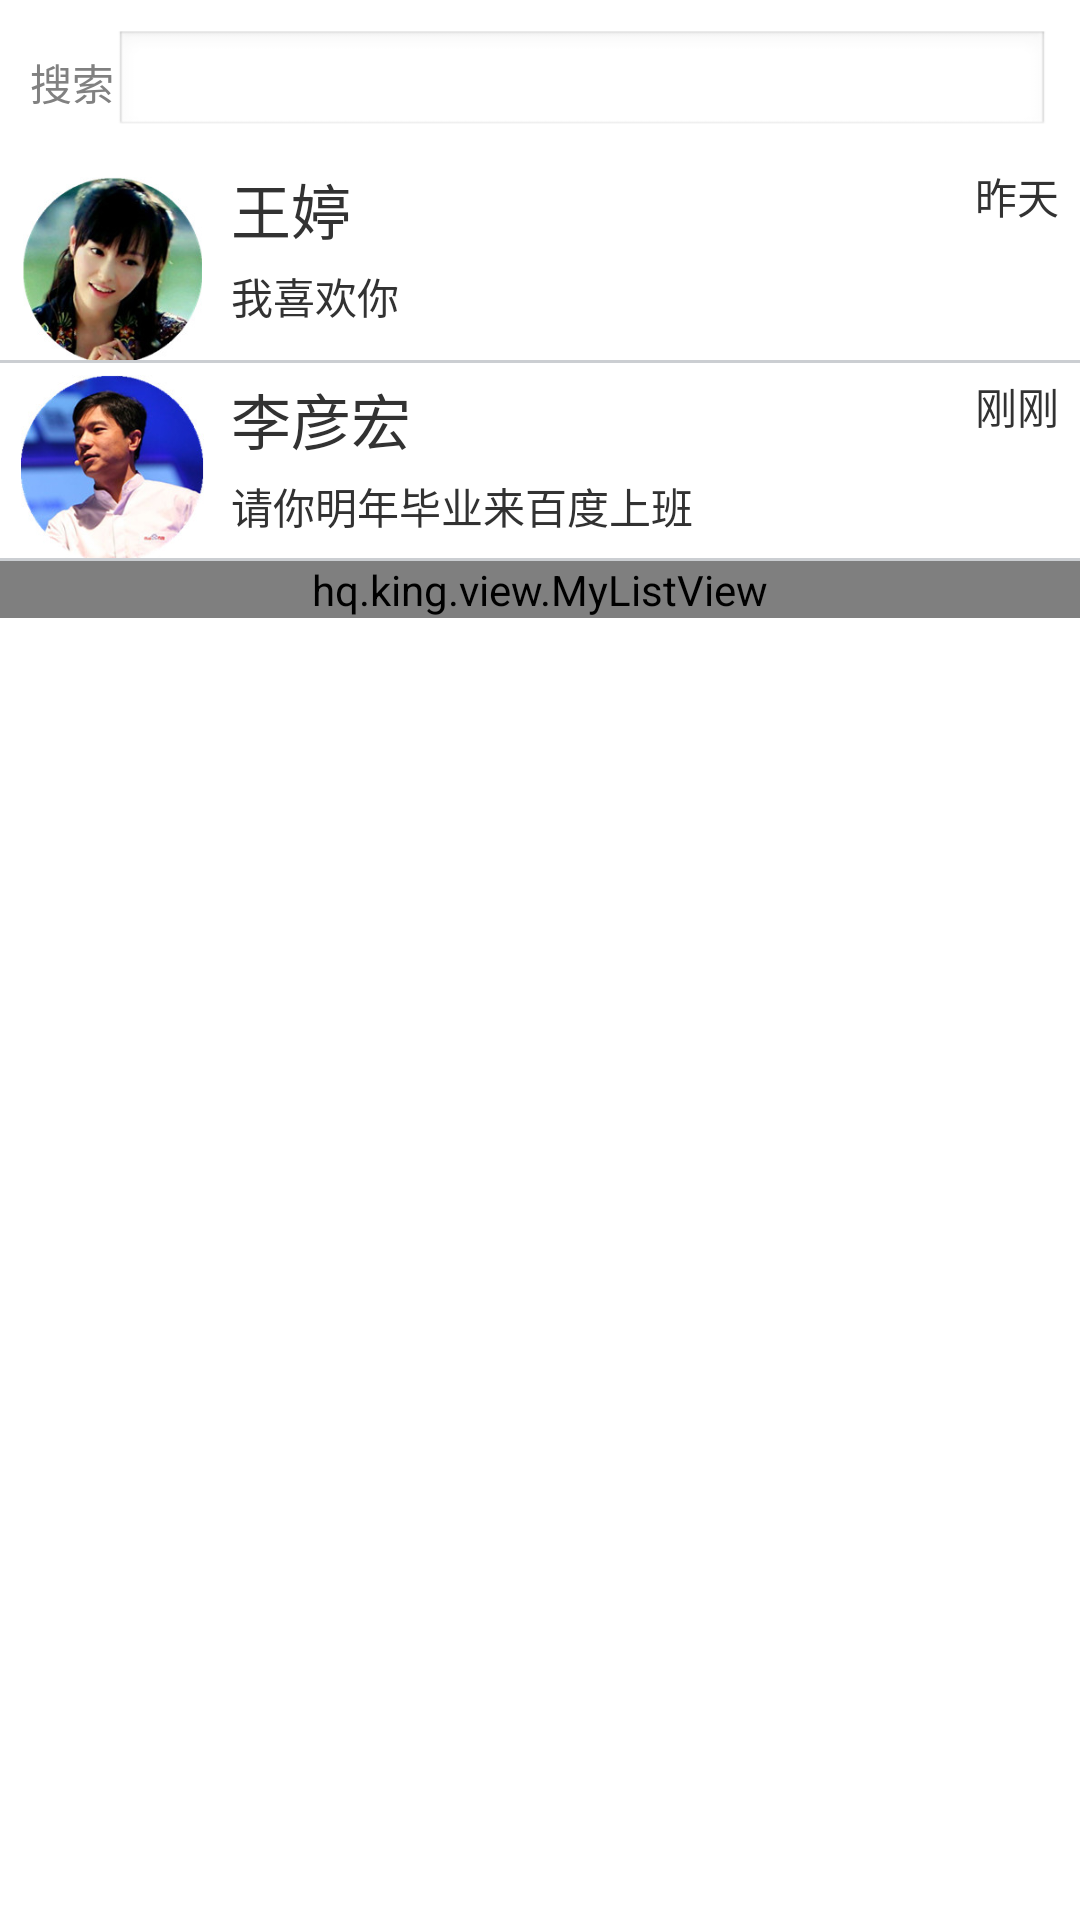

Screen size 1080x1920. Icon name, then its center in pixels as [x,y]:
head: [112,269]
